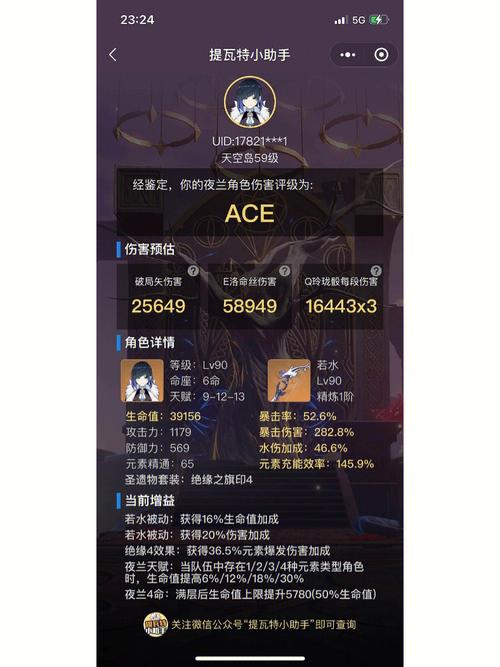夜兰: (226, 79, 277, 130), (124, 360, 161, 405)
